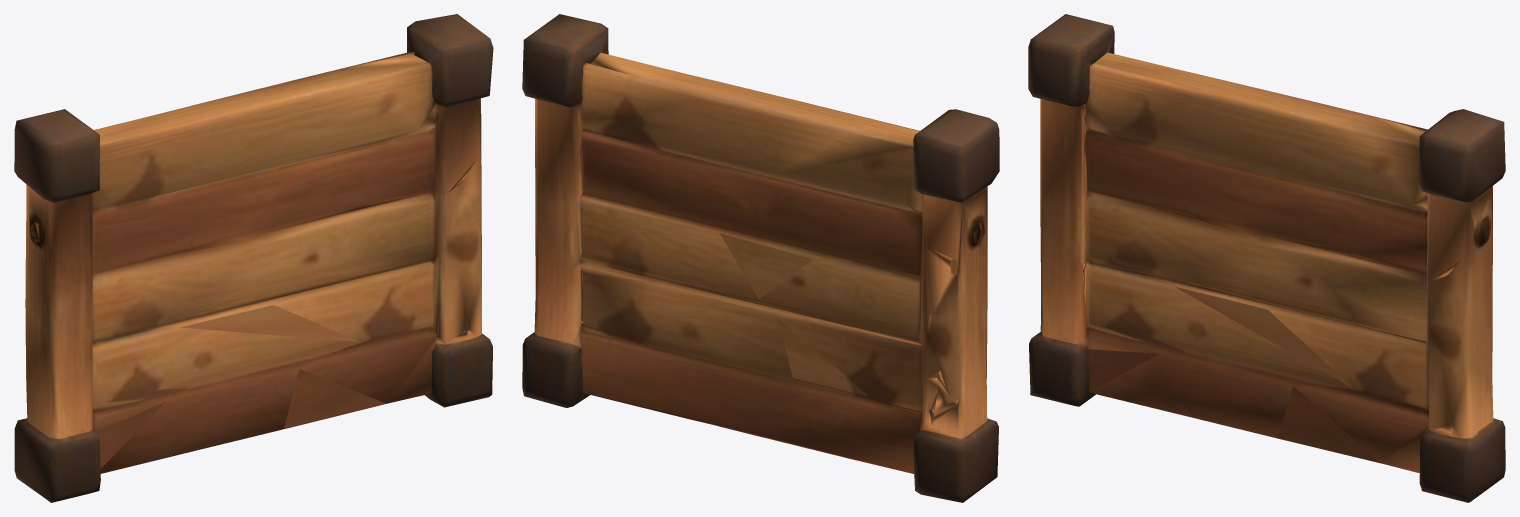
File: x-wall-wood-plank.glb
The picture shows the model from 3 angles, left to right: view 1: azimuth 30°, elevation 25°; view 2: azimuth 150°, elevation 25°; view 3: azimuth 330°, elevation 25°; orthographic projection.
Visible parts, largest first — view 1: geometry_0; view 2: geometry_0; view 3: geometry_0.
Part boxes in pixels (x1=…): geometry_0: x1=14, y1=14, x2=493, y2=502; geometry_0: x1=522, y1=14, x2=999, y2=502; geometry_0: x1=1028, y1=14, x2=1505, y2=502.
Size of the model in its own units: 1 by 0.7823 by 0.1539.
Materials: 1 (1 with a texture image).
